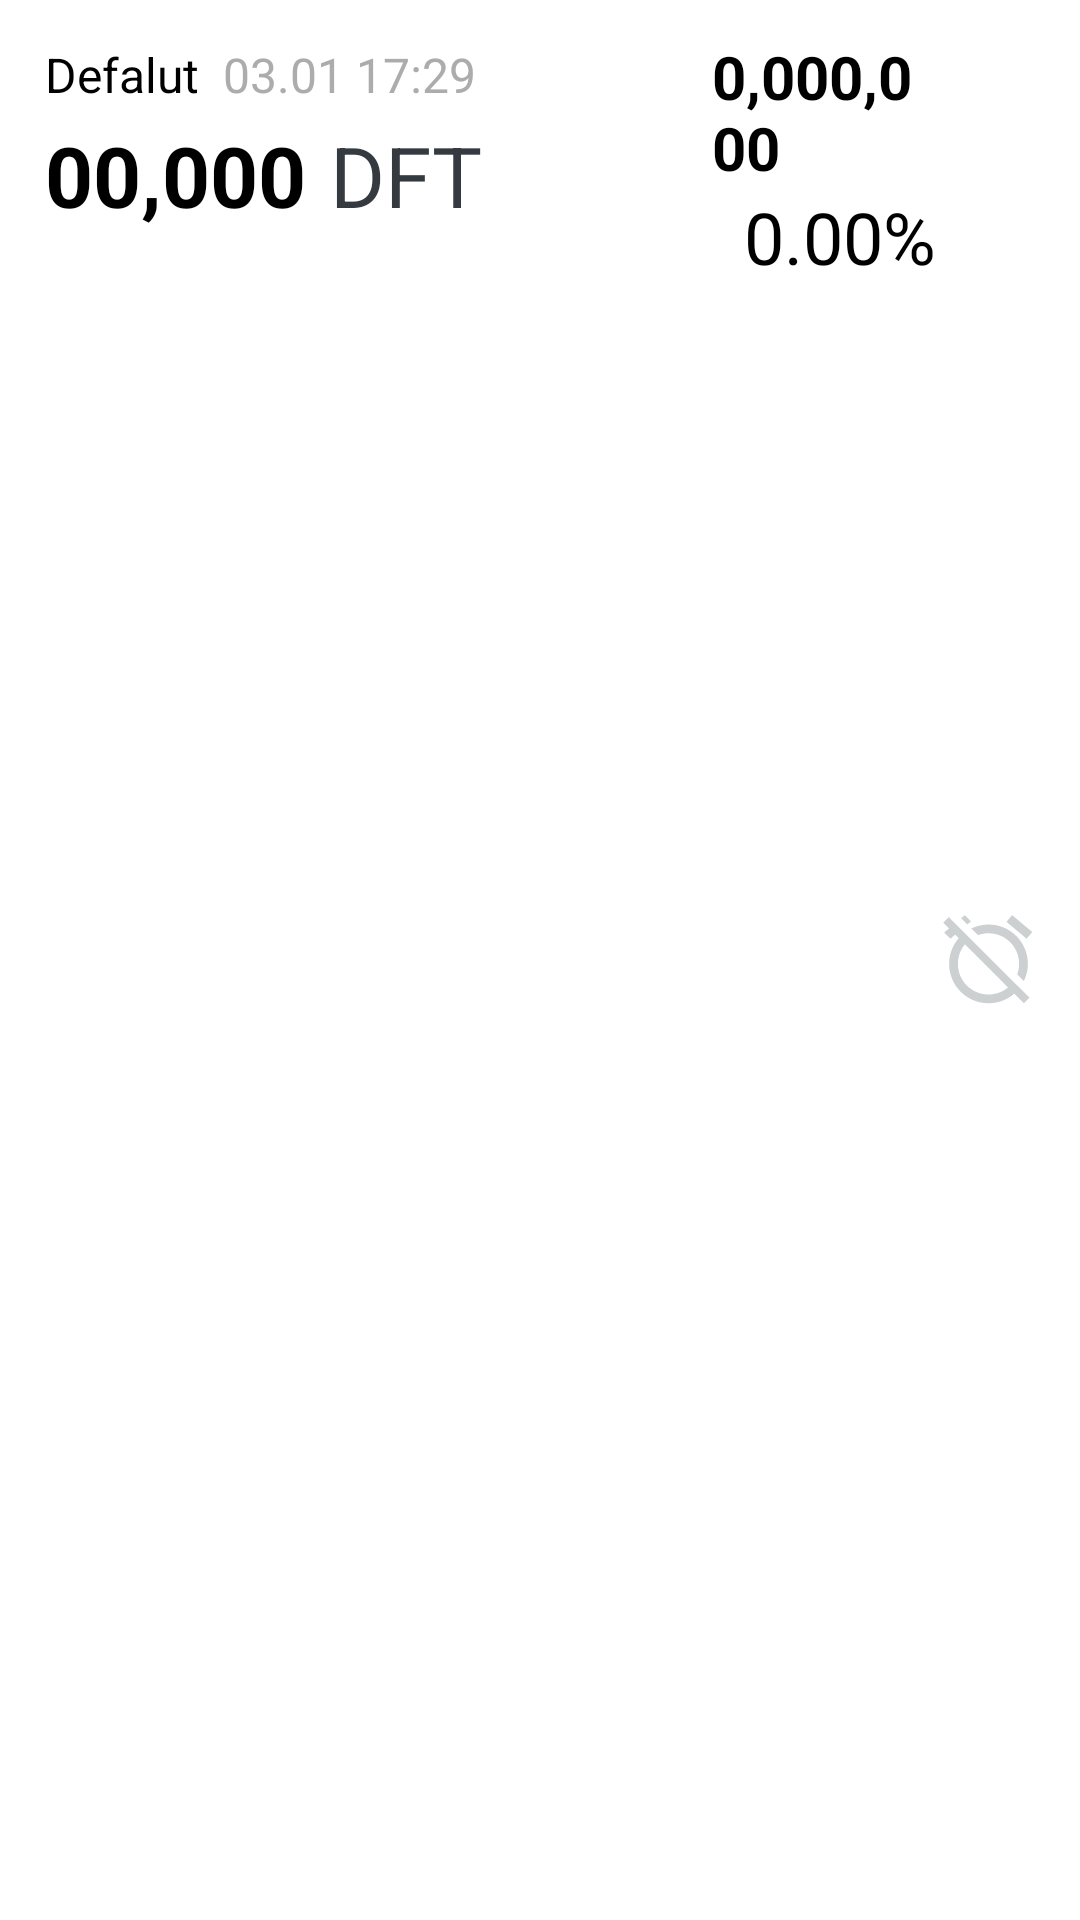

Named icons in this screenshot (1080 × 1920) and their bounding boxes, {"left": x1, "top": y1, "right": x2, "bottom": y2}:
alarm off: {"left": 943, "top": 915, "right": 1032, "bottom": 1003}
